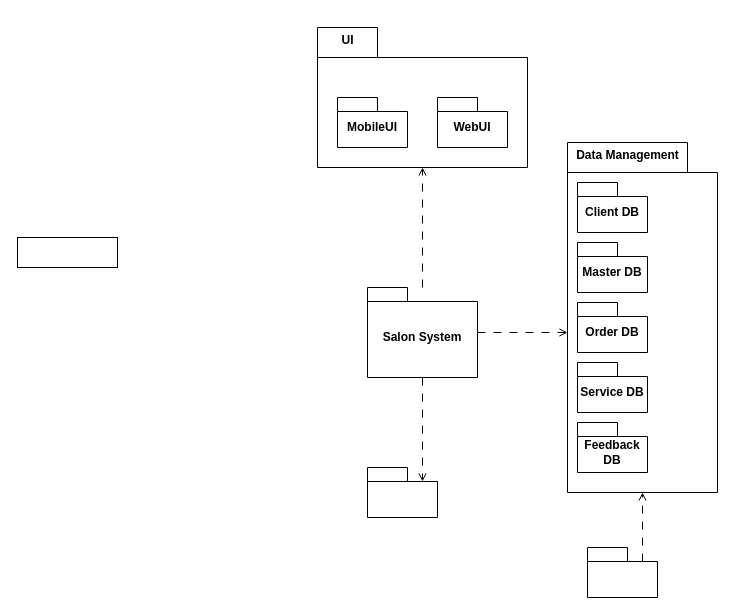
Image size: 735x615. Some labels were removed from this diagram. Each missing label, with the centre of its shape:
"Analytics System" goes at (622,572).
"BeautySalon" goes at (67,252).
"External System" goes at (402,492).
